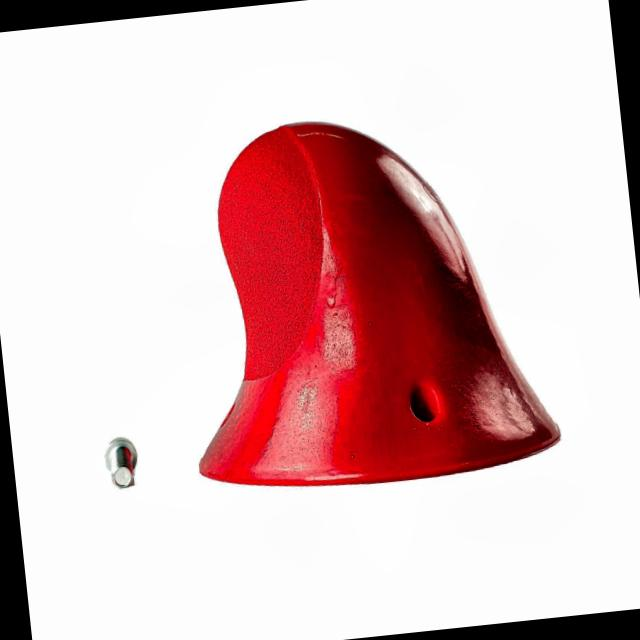Hold: (155, 96, 570, 502)
